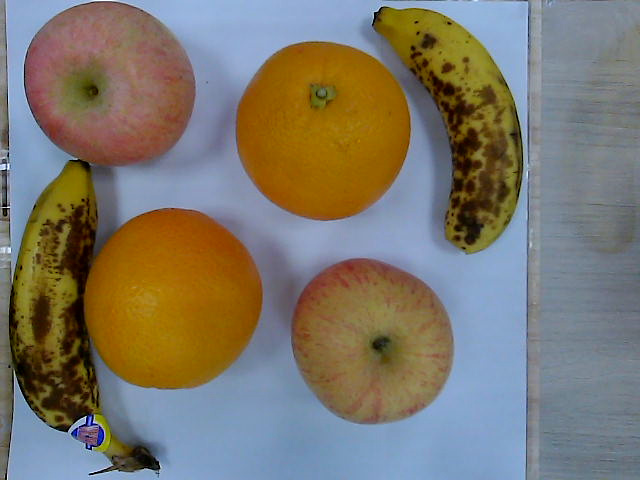fresh_apple: (25, 1, 195, 168), (292, 258, 452, 425)
fresh_orange: (83, 208, 263, 388), (235, 42, 412, 221)
rotten_banana: (7, 160, 164, 475), (371, 5, 525, 252)
